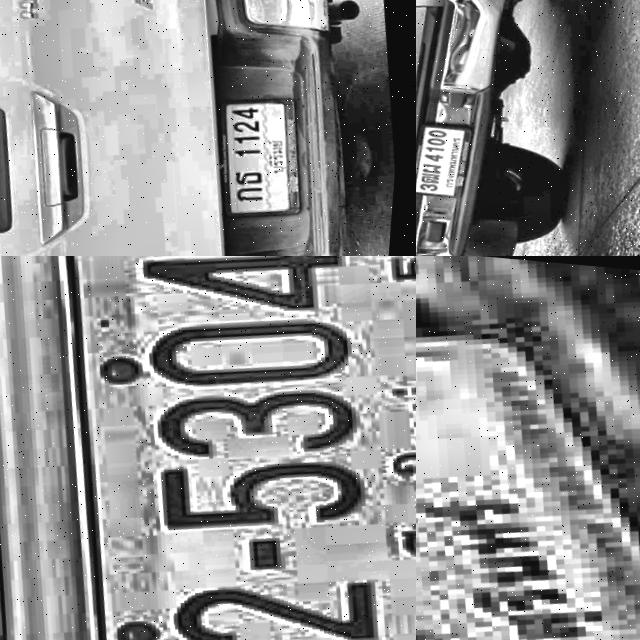license-plate: (23, 256, 416, 640), (416, 256, 640, 640), (213, 77, 315, 215), (416, 101, 493, 199)
